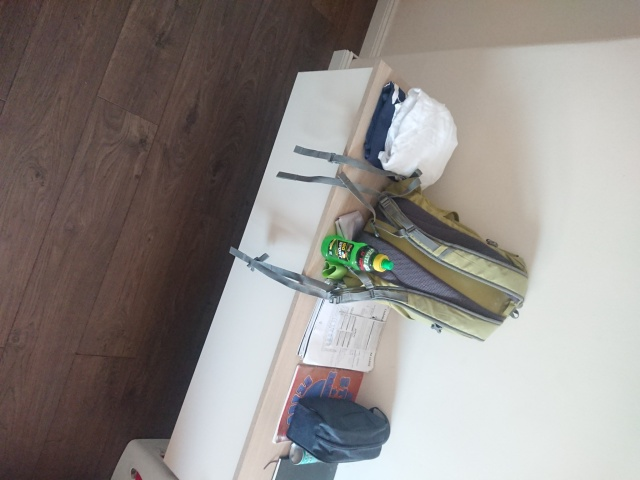Vindi Iso Sport Lemon-Grapefruit 500mL: (319, 233, 396, 275)
